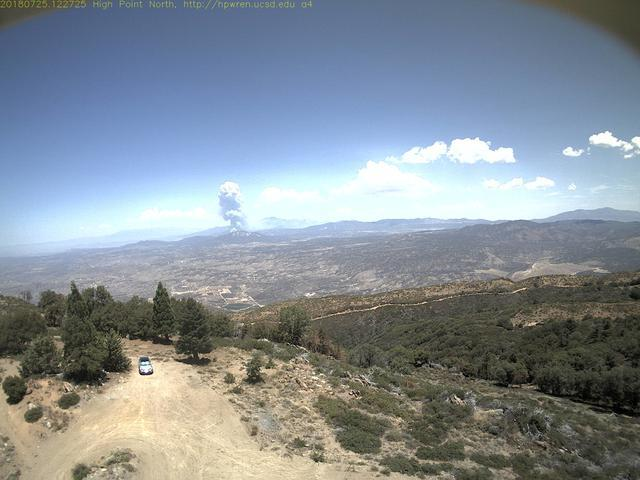smoke: (217, 179, 250, 235)
